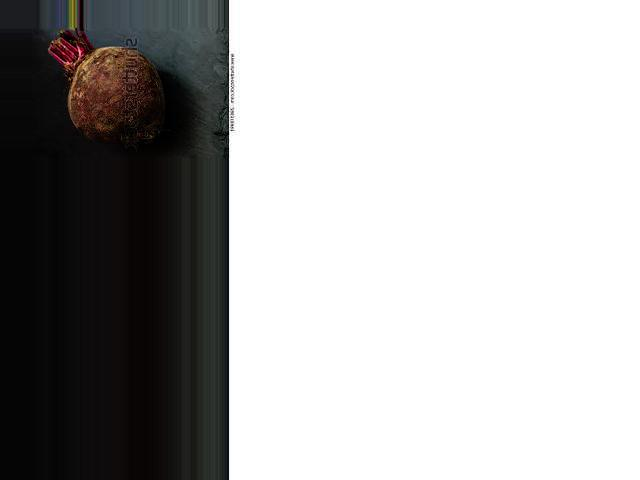beet: (49, 28, 165, 145)
